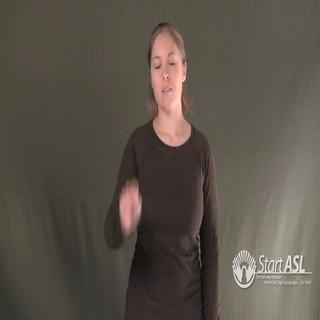yes: (109, 176, 150, 237)
